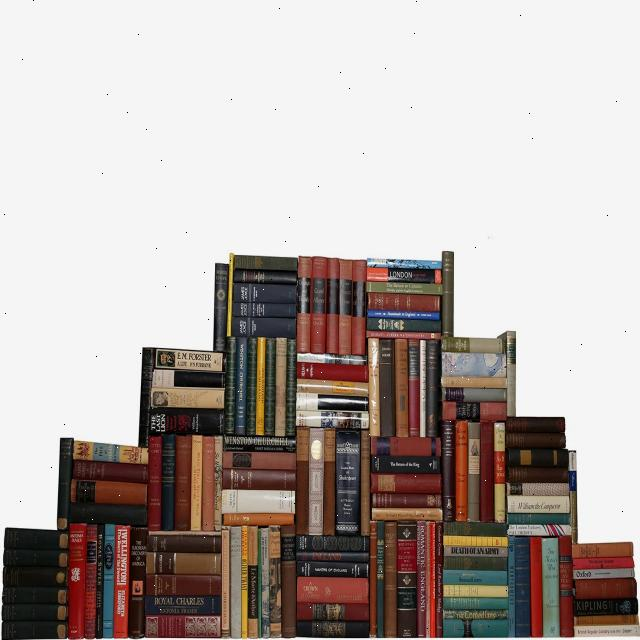book: (396, 523, 416, 637), (128, 527, 148, 640), (67, 522, 86, 640), (150, 408, 224, 437), (113, 524, 131, 638), (145, 614, 222, 640), (152, 348, 225, 375), (298, 577, 366, 604), (512, 536, 530, 638), (149, 386, 225, 410), (73, 460, 148, 484), (280, 526, 296, 638), (72, 440, 146, 464), (146, 552, 221, 575), (174, 437, 192, 532), (308, 429, 324, 535), (144, 575, 221, 597), (542, 540, 559, 639), (223, 468, 296, 491), (146, 533, 222, 555), (294, 428, 309, 539), (558, 536, 574, 640), (144, 596, 222, 617), (84, 524, 98, 640), (384, 522, 398, 638), (230, 317, 294, 342), (138, 348, 154, 447), (479, 421, 494, 526), (222, 451, 297, 472), (425, 340, 441, 438), (378, 339, 394, 437), (232, 337, 248, 435), (3, 527, 65, 552), (268, 526, 282, 636), (312, 257, 328, 353), (338, 259, 353, 358), (102, 525, 115, 639), (297, 258, 312, 355), (572, 577, 638, 599), (161, 434, 176, 530), (152, 370, 224, 390), (373, 436, 438, 458), (3, 566, 65, 589), (232, 284, 296, 306), (374, 474, 441, 495), (440, 420, 454, 520), (369, 294, 442, 313), (326, 257, 340, 356), (352, 260, 366, 358), (299, 362, 367, 382), (296, 393, 364, 413), (395, 341, 409, 438), (148, 437, 162, 533), (201, 436, 215, 532), (4, 546, 65, 568), (3, 585, 64, 607), (247, 526, 259, 637), (530, 538, 543, 640), (441, 401, 504, 422), (374, 455, 440, 475), (455, 422, 468, 522), (301, 534, 366, 554), (444, 618, 509, 638), (2, 620, 67, 640), (367, 316, 439, 334), (468, 424, 481, 523), (2, 602, 66, 622), (574, 597, 638, 617), (264, 337, 277, 435), (245, 337, 258, 435), (224, 336, 237, 434), (301, 602, 368, 621), (323, 430, 335, 536), (441, 250, 455, 340), (572, 614, 638, 633), (407, 340, 420, 436), (494, 422, 506, 526), (190, 436, 203, 531), (214, 262, 228, 350), (230, 527, 241, 639), (298, 560, 366, 578), (285, 338, 297, 440), (275, 338, 287, 438), (508, 448, 568, 468), (224, 434, 299, 450), (233, 301, 296, 320), (441, 336, 507, 354), (232, 255, 298, 273), (443, 568, 508, 586), (505, 432, 566, 451), (369, 266, 441, 282), (443, 556, 507, 574), (506, 466, 570, 484), (434, 524, 444, 639), (94, 525, 104, 640), (373, 492, 440, 509), (572, 542, 634, 560), (260, 528, 270, 638), (220, 528, 230, 637), (507, 514, 571, 531), (505, 416, 565, 434), (255, 338, 266, 436), (442, 596, 509, 612), (301, 549, 368, 565), (233, 269, 296, 286), (506, 498, 572, 514), (442, 388, 508, 404), (442, 520, 503, 537), (439, 376, 508, 391), (369, 522, 378, 636), (507, 481, 571, 497), (440, 584, 508, 599), (376, 524, 385, 636), (297, 352, 365, 366), (367, 309, 439, 322), (367, 258, 438, 271), (366, 282, 442, 294), (572, 568, 636, 582), (572, 556, 636, 570), (240, 527, 248, 638), (366, 330, 439, 342), (373, 508, 440, 521), (444, 544, 506, 558), (442, 608, 508, 621), (214, 436, 223, 530), (444, 535, 506, 548), (429, 523, 436, 636)
